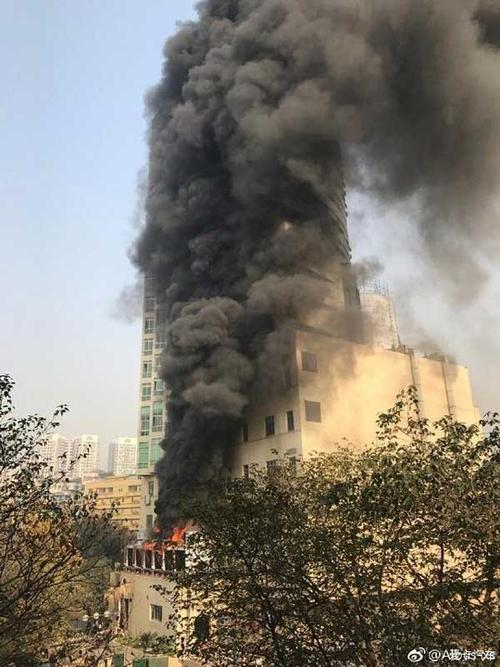smoke: (128, 10, 437, 476)
